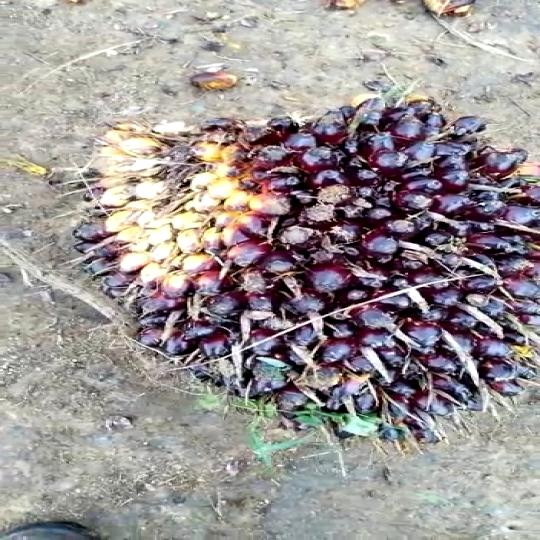mentah: (74, 94, 540, 444)
